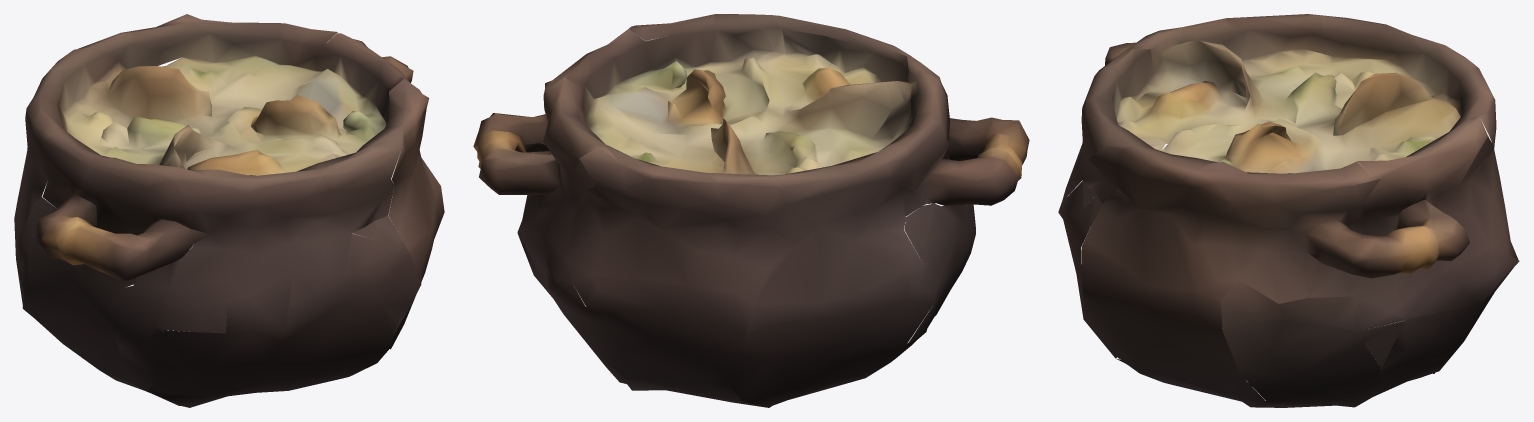
Rendered from building-betterStove-pot.glb.
The picture shows the model from 3 angles, left to right: view 1: azimuth 30°, elevation 25°; view 2: azimuth 150°, elevation 25°; view 3: azimuth 270°, elevation 25°; orthographic projection. The views are drawn at different scales.
Visible parts, largest first — view 1: 0_betterStove-pot; view 2: 0_betterStove-pot; view 3: 0_betterStove-pot.
Boxes of the visible parts, left/top/right/bottom form: 0_betterStove-pot: left=14, top=14, right=444, bottom=407; 0_betterStove-pot: left=473, top=14, right=1029, bottom=407; 0_betterStove-pot: left=1058, top=14, right=1519, bottom=407.
Size of the model in its own units: 0.4016 by 0.2273 by 0.3458.
